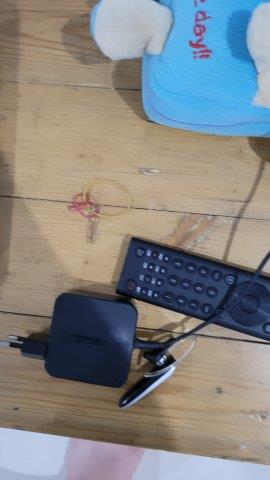karet: (67, 178, 135, 223)
